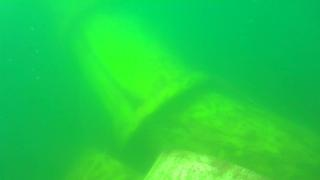pipe: (56, 1, 210, 148), (138, 86, 320, 180), (140, 149, 266, 180), (67, 149, 142, 180)
